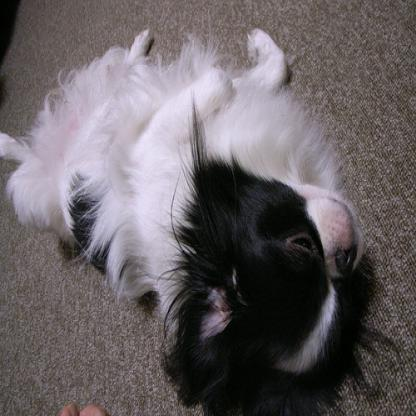dog: (0, 27, 365, 408)
